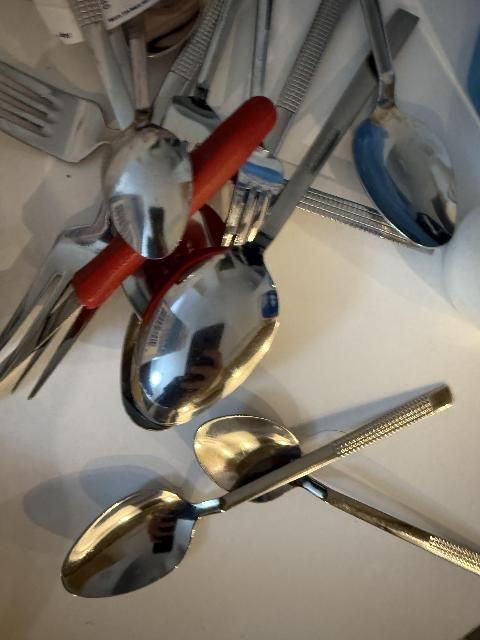Metal: (0, 0, 460, 431), (60, 386, 454, 598), (194, 414, 480, 587)
